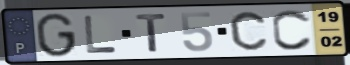5: (178, 11, 215, 54)
C: (271, 8, 315, 52), (228, 10, 270, 52)
G: (35, 12, 78, 59)
L: (82, 14, 119, 55)
T: (134, 12, 169, 54)
